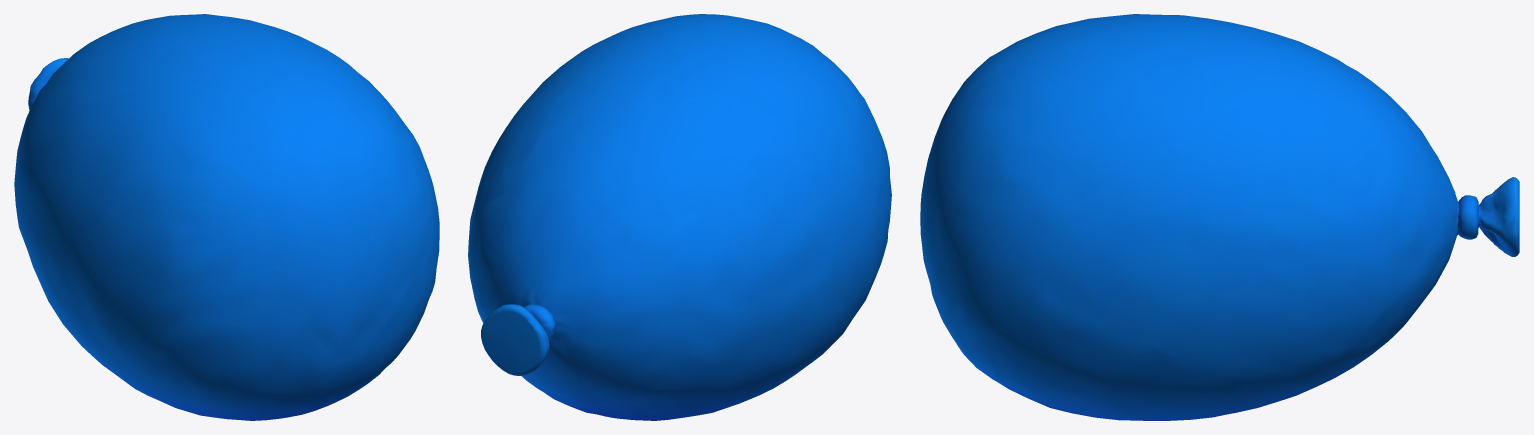
Rendered from balloon.glb.
The picture shows the model from 3 angles, left to right: view 1: azimuth 30°, elevation 25°; view 2: azimuth 150°, elevation 25°; view 3: azimuth 270°, elevation 25°; orthographic projection. The views are drawn at different scales.
Visible parts, largest first — view 1: geometry_0; view 2: geometry_0; view 3: geometry_0.
Part boxes in pixels (bbox=[...]): geometry_0: bbox=[14, 14, 439, 420]; geometry_0: bbox=[468, 14, 891, 420]; geometry_0: bbox=[920, 14, 1519, 420].
Bounding box in the file's own units: 0.6436 × 0.6392 × 0.9507.
Materials: 1 (1 with a texture image).
